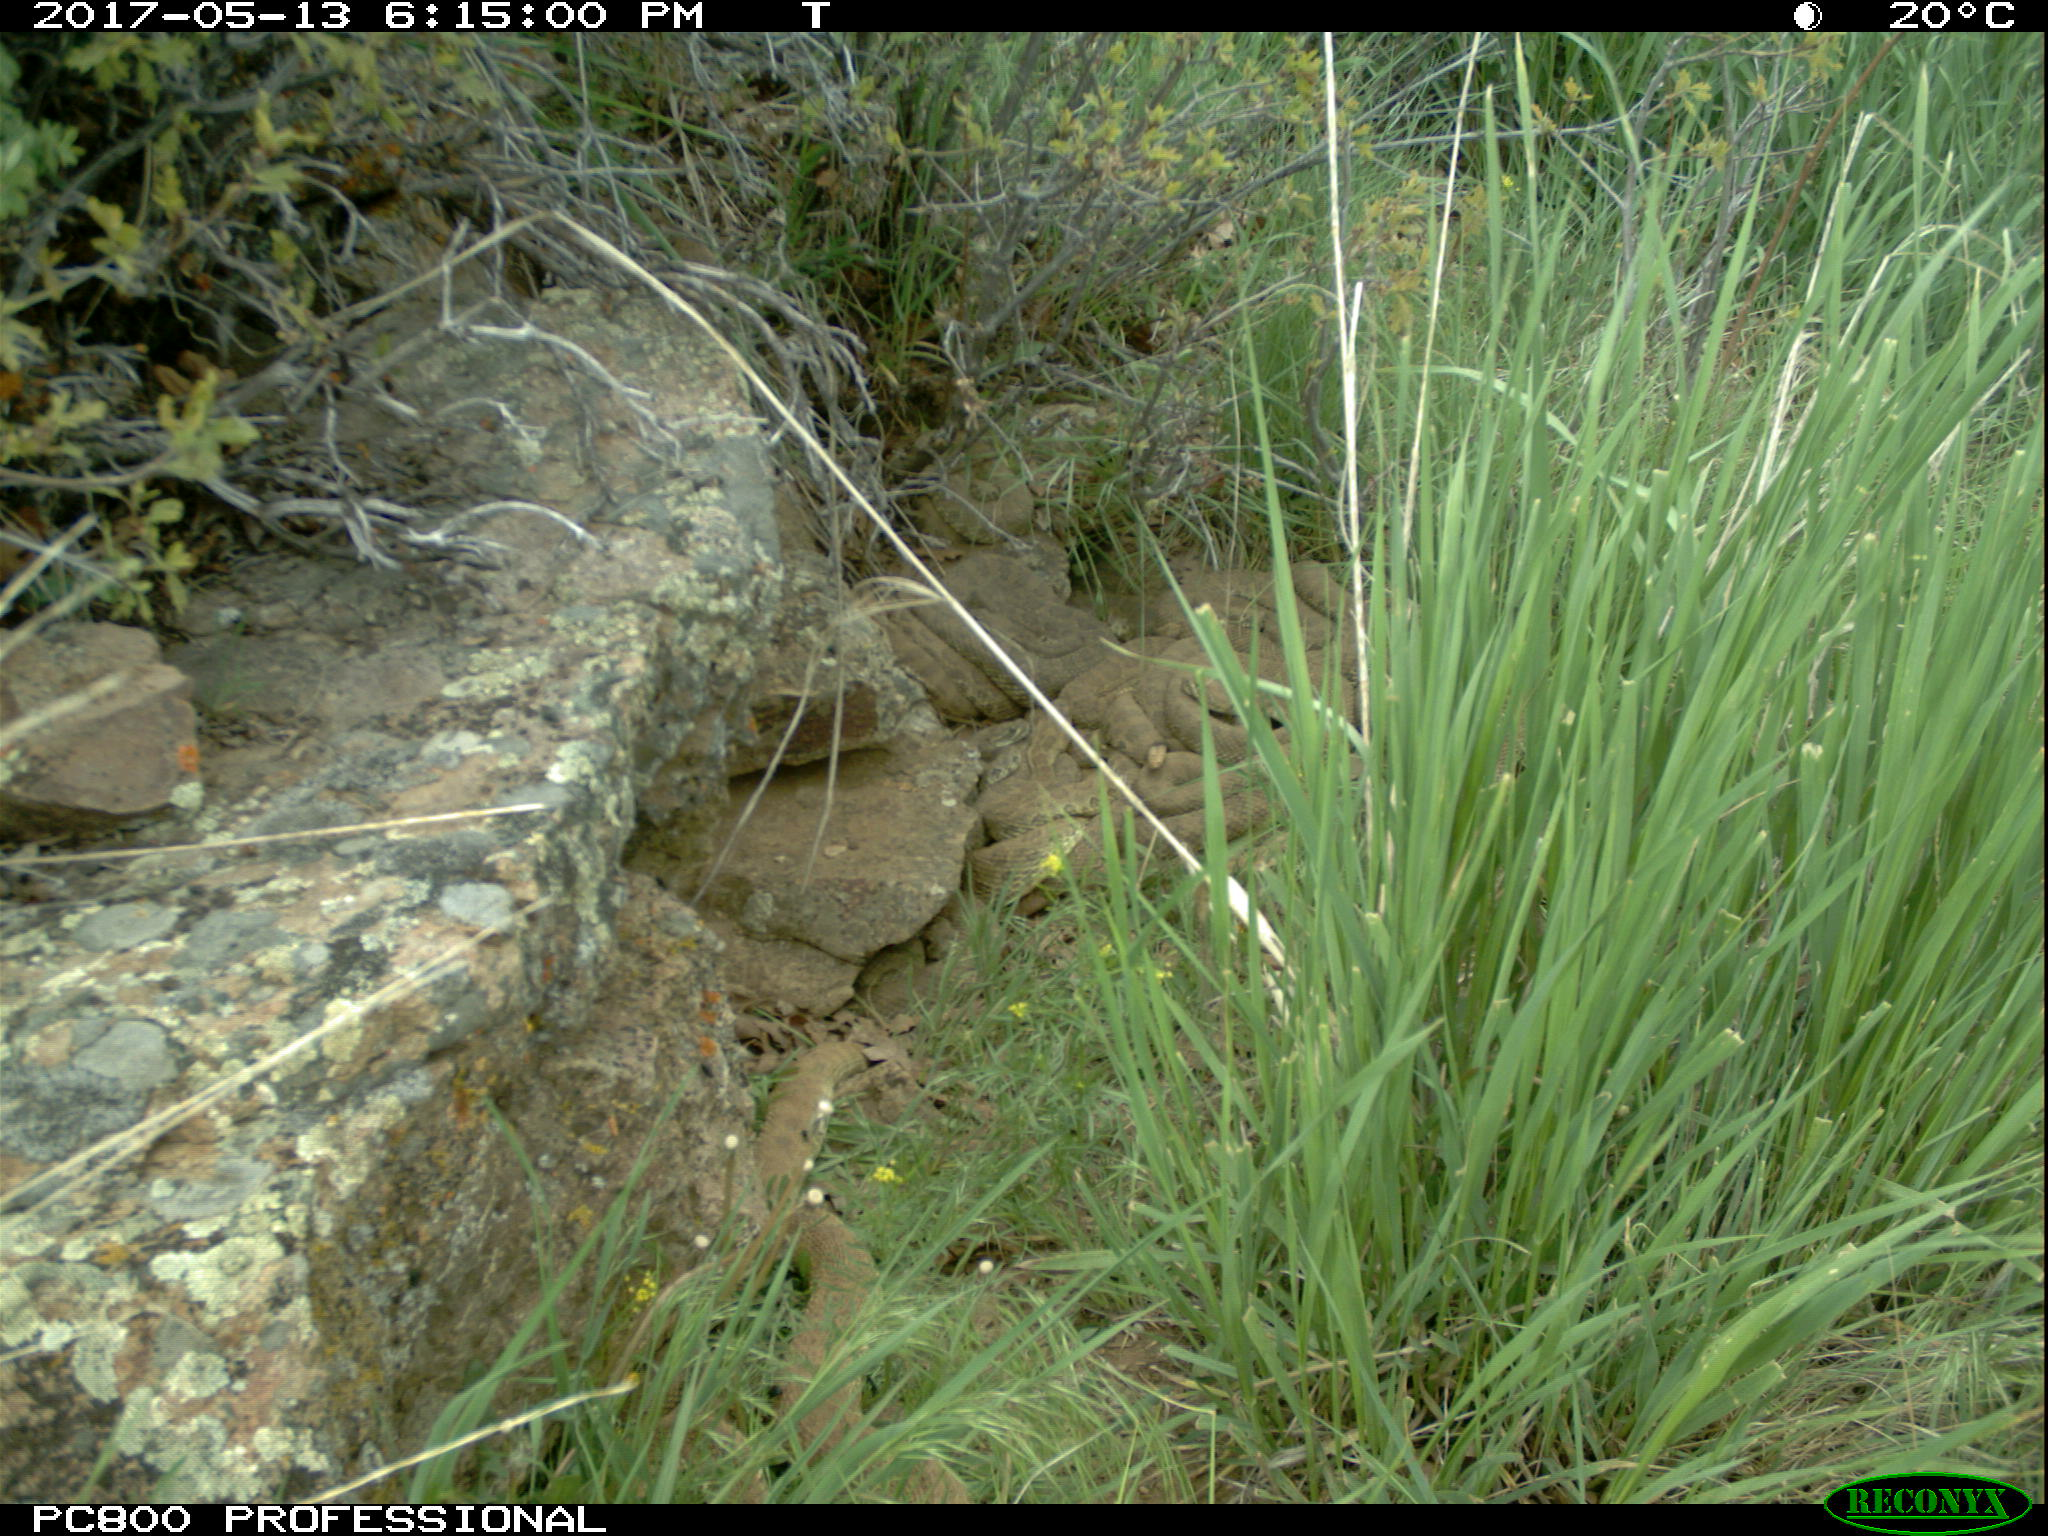snake: (1064, 623, 1355, 760), (914, 553, 1114, 697), (777, 1217, 877, 1478), (755, 1041, 861, 1244), (1161, 566, 1363, 670), (972, 763, 1098, 900), (1130, 752, 1279, 850), (926, 449, 1039, 544), (1027, 720, 1077, 833)
